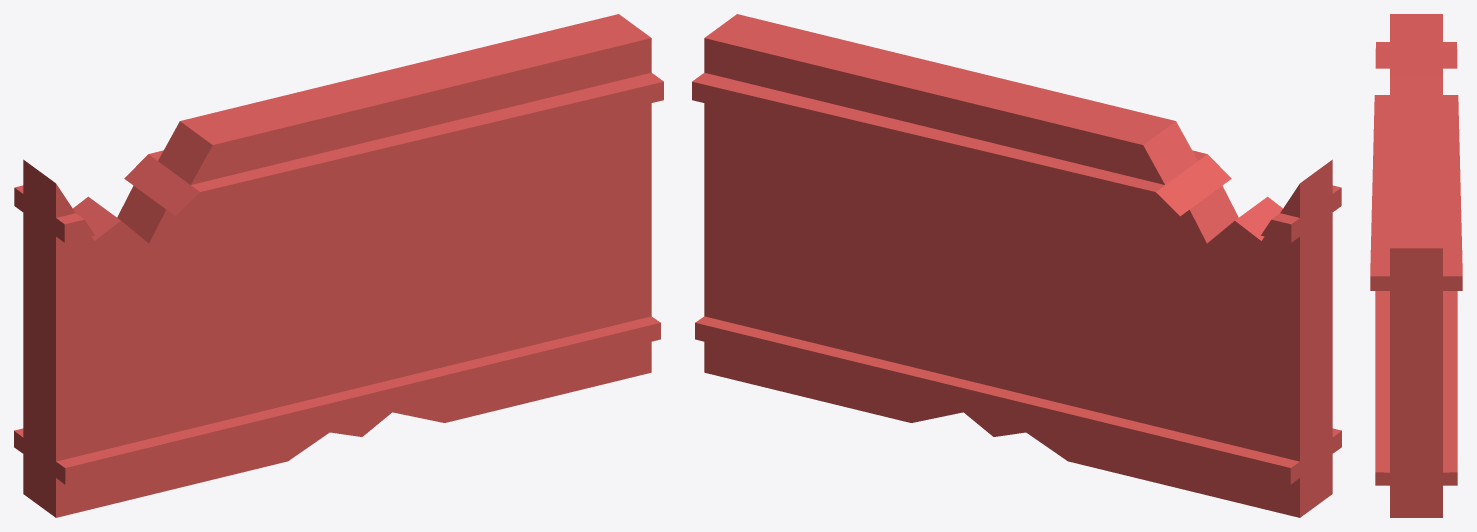
File: WallDestroyed_C.fbx
3 renders of one model, left to right at view 1: azimuth 30°, elevation 25°; view 2: azimuth 150°, elevation 25°; view 3: azimuth 270°, elevation 25°, orthographic. The views are drawn at different scales.
Parts seen in each view (by area): view 1: BrokenWall2; view 2: BrokenWall2; view 3: BrokenWall2.
Part boxes in pixels (<box>): BrokenWall2: <box>14,14,663,517</box>; BrokenWall2: <box>692,14,1341,517</box>; BrokenWall2: <box>1370,14,1462,517</box>.
Bounding box in the file's own units: 559 × 300 × 93.39.
